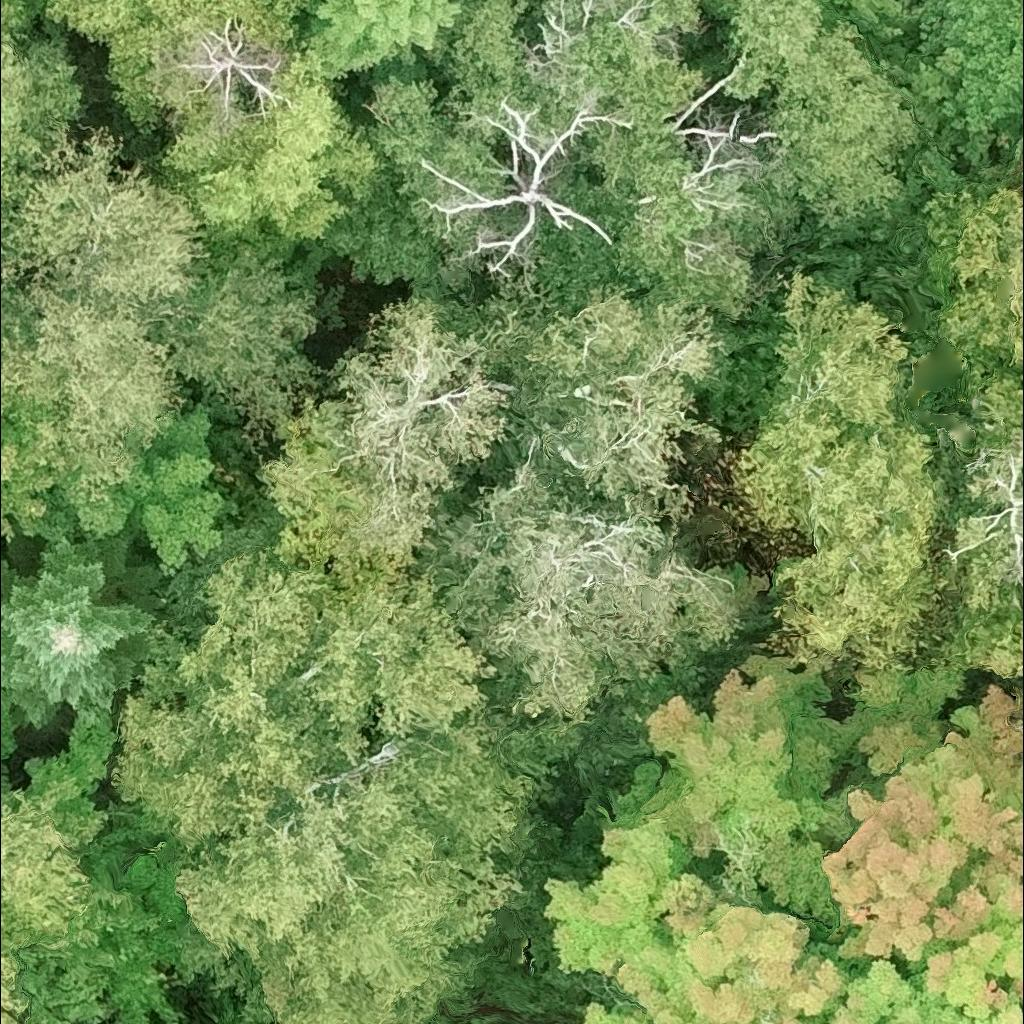crown: (110, 527, 542, 1023), (0, 118, 330, 482), (728, 267, 950, 677), (417, 461, 751, 723), (612, 648, 858, 947), (538, 819, 857, 1023), (539, 23, 754, 317), (821, 652, 1023, 959), (303, 297, 511, 570), (13, 716, 194, 1023), (508, 281, 724, 526), (717, 0, 926, 237), (163, 36, 383, 260), (321, 73, 504, 287), (0, 534, 181, 732), (37, 0, 304, 130), (922, 374, 1023, 676), (119, 392, 244, 584), (808, 918, 1023, 1023), (899, 0, 1023, 176), (914, 181, 1023, 381), (0, 381, 134, 543), (432, 0, 569, 141), (0, 0, 85, 225), (0, 791, 92, 953), (294, 0, 460, 86), (975, 133, 1023, 189), (0, 943, 31, 1023), (643, 0, 711, 35), (0, 718, 20, 793), (523, 0, 561, 22), (1023, 718, 1023, 721)
